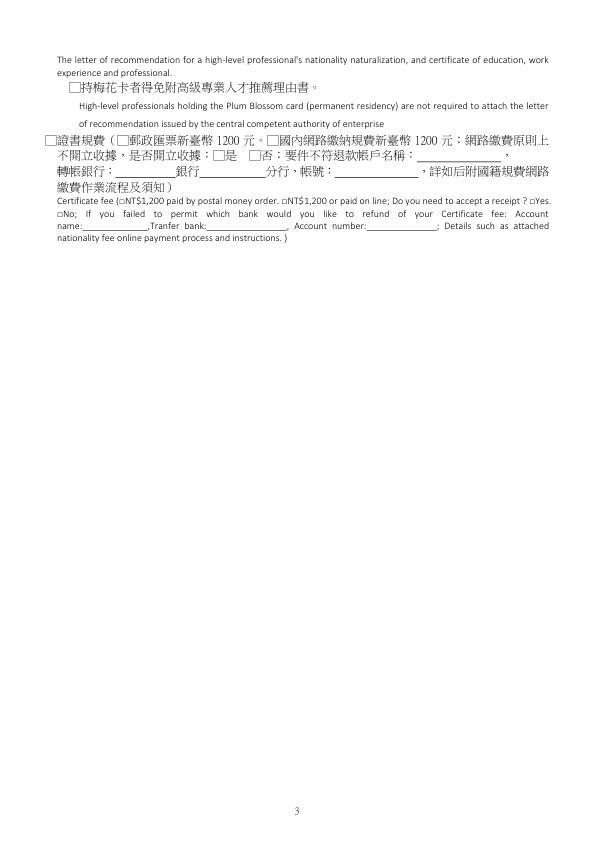check_box: (115, 134, 130, 148), (67, 81, 82, 94), (44, 133, 58, 146), (267, 134, 280, 147), (248, 149, 261, 162), (213, 149, 225, 163), (56, 209, 63, 218), (529, 196, 535, 206), (281, 197, 287, 206), (119, 197, 125, 205)
input: (335, 165, 418, 180), (417, 149, 500, 163), (200, 166, 264, 180), (115, 165, 173, 180), (208, 222, 286, 233), (368, 222, 437, 234), (83, 222, 145, 232)
text: (77, 98, 552, 129), (55, 51, 553, 78), (63, 209, 552, 219), (280, 130, 553, 146), (82, 81, 318, 95), (288, 196, 528, 206), (53, 234, 291, 244), (130, 132, 263, 147), (57, 148, 210, 161), (421, 164, 551, 178), (262, 149, 414, 160), (55, 181, 174, 194), (126, 196, 279, 205), (444, 222, 553, 232), (265, 163, 332, 178), (292, 221, 366, 231), (57, 165, 112, 177), (57, 133, 105, 146), (149, 219, 203, 230), (55, 197, 115, 206), (176, 164, 199, 178), (225, 147, 240, 163), (55, 222, 81, 230), (536, 196, 551, 206)
